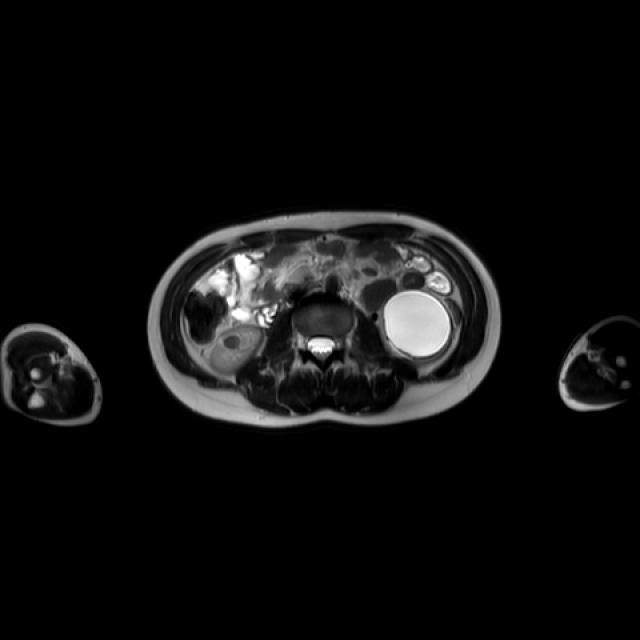sag: (209, 319, 262, 373)
sol: (386, 286, 454, 358)
